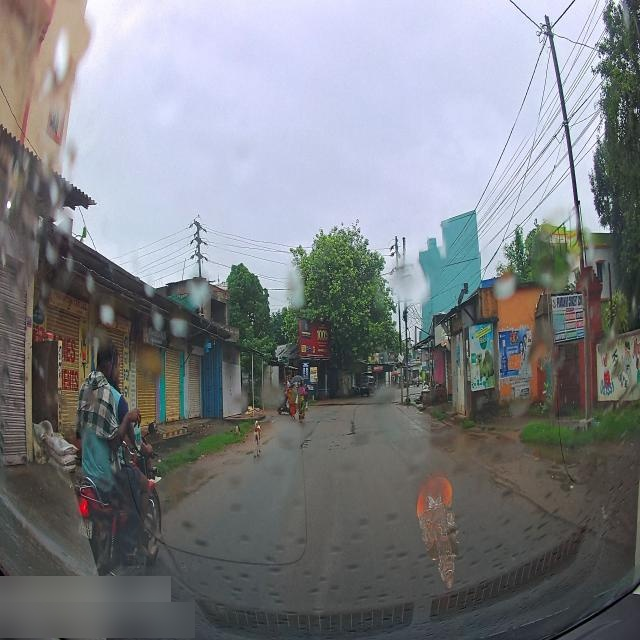pothole: (297, 432, 316, 452), (346, 415, 364, 434)
